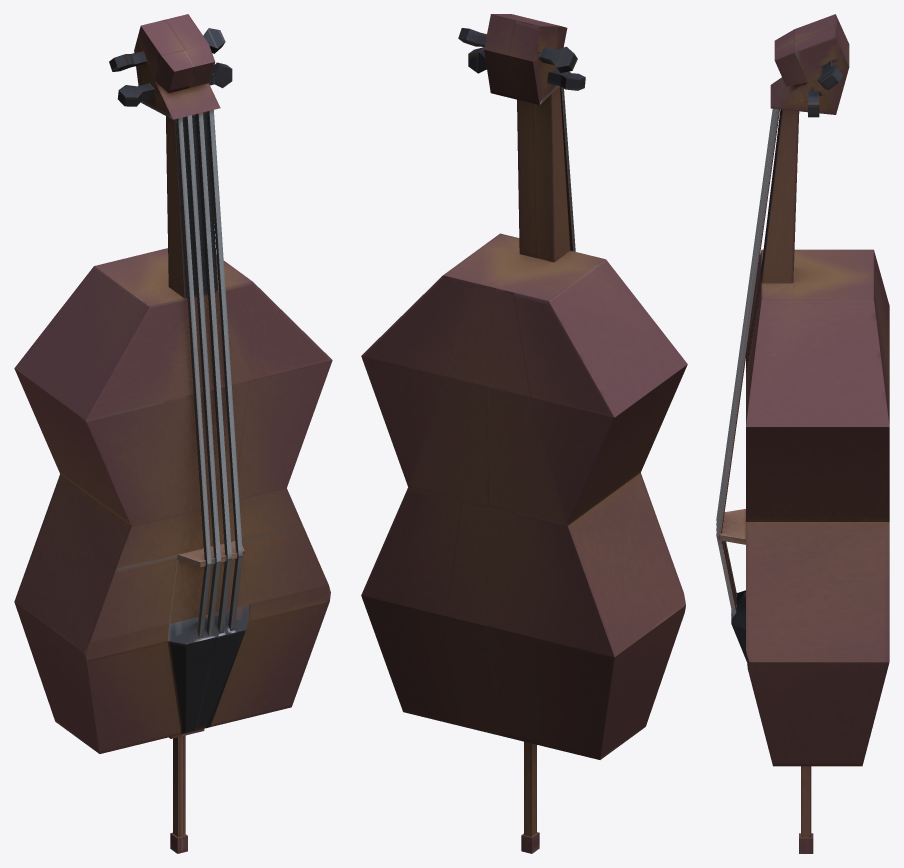
Rendered from cello02.fbx.
The picture shows the model from 3 angles, left to right: view 1: azimuth 30°, elevation 25°; view 2: azimuth 150°, elevation 25°; view 3: azimuth 270°, elevation 25°; orthographic projection. The views are drawn at different scales.
Visible parts, largest first — view 1: Cube.007; view 2: Cube.007; view 3: Cube.007.
Boxes of the visible parts, x1,y1,x2,y2 form: Cube.007: [14, 14, 332, 853]; Cube.007: [361, 14, 687, 853]; Cube.007: [716, 14, 889, 853].
Size of the model in its own units: 0.4457 by 0.2683 by 1.41.
Materials: 1 (1 with a texture image).
